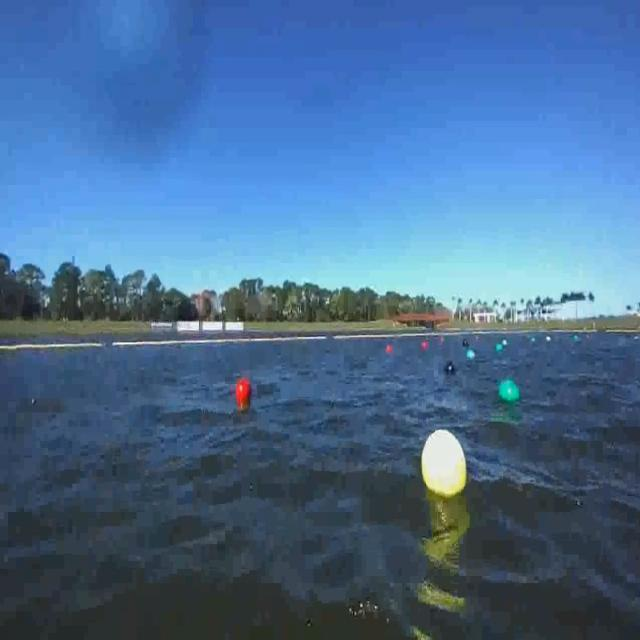black-buoy: (445, 359, 457, 375)
green-buoy: (498, 378, 520, 403)
red-buoy: (235, 377, 249, 400), (386, 345, 393, 354)
yellow-buoy: (420, 430, 466, 498)
